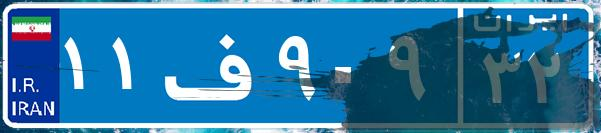0: (330, 28, 385, 110)
1: (57, 26, 110, 107), (110, 28, 158, 105)
2: (525, 38, 570, 115)
3: (475, 38, 525, 113)
9: (385, 28, 445, 110), (273, 28, 330, 110)
ف: (158, 15, 273, 115)
